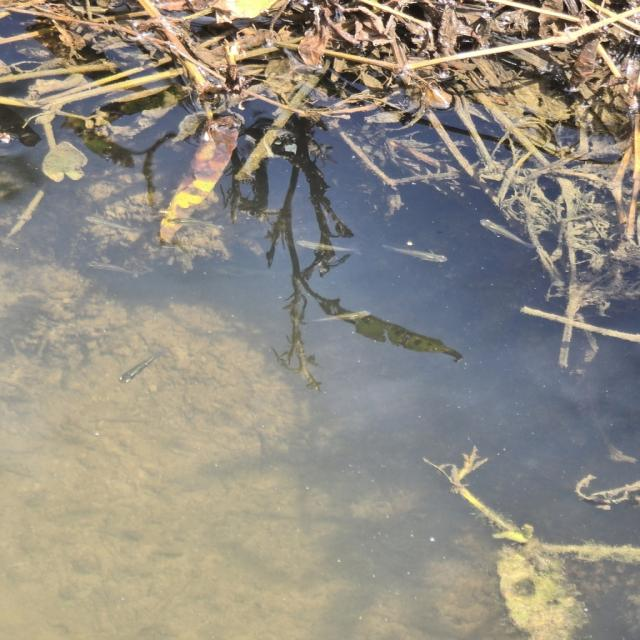Sivrisinek Baligi: (381, 234, 450, 271), (293, 232, 363, 262), (82, 206, 143, 240), (83, 253, 146, 283), (117, 349, 165, 387), (312, 306, 382, 328), (168, 216, 231, 234)
